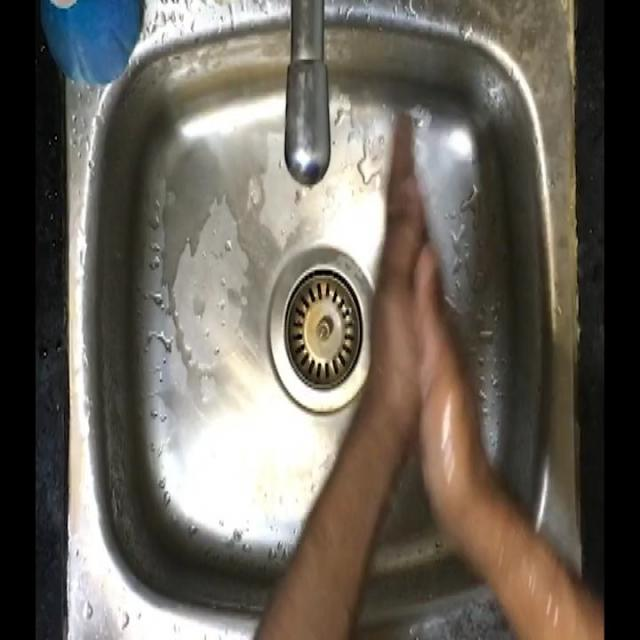step_1: (356, 81, 481, 406)
